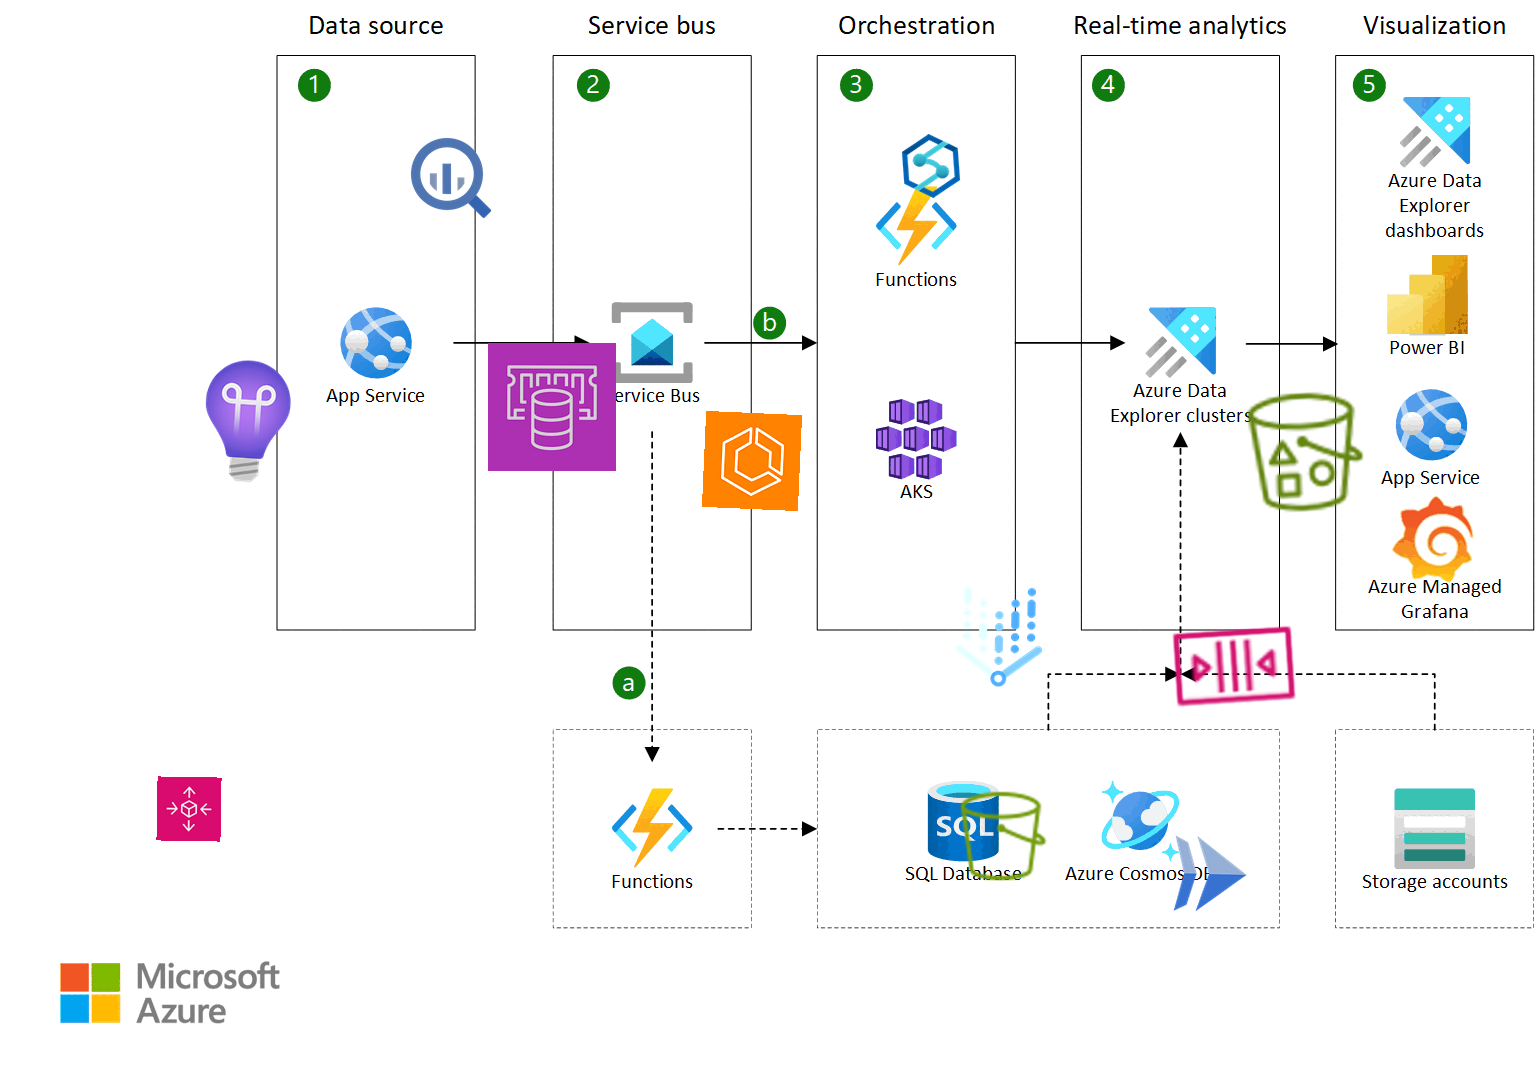aws_amazon_elastic_container_service: (701, 410, 803, 512)
aws_amazon_elasticache: (487, 342, 618, 472)
aws_auto_scaling: (156, 776, 221, 842)
aws_simple_queue_service_queue: (1166, 597, 1302, 733)
aws_simple_storage_service_bucket_with_objects: (1239, 384, 1374, 520)
aws_simple_storage_service_s3_standard: (954, 786, 1052, 885)
azure_application_insights: (178, 352, 316, 490)
azure_synapse_analytics: (896, 131, 966, 200)
gcp_bigquery: (402, 129, 500, 227)
gcp_cloud_run: (1159, 824, 1258, 924)
gcp_vertex_ai: (933, 571, 1065, 703)
